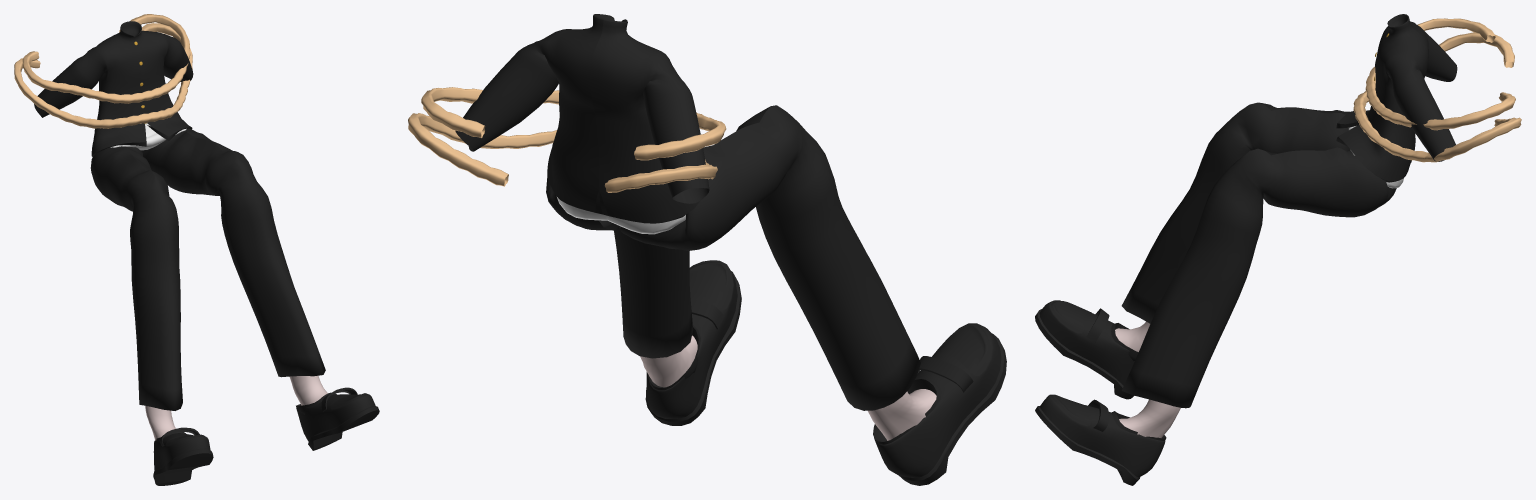
File: Mesh_VisualNovel_Player_Chair.fbx
The picture shows the model from 3 angles, left to right: view 1: azimuth 30°, elevation 25°; view 2: azimuth 150°, elevation 25°; view 3: azimuth 270°, elevation 25°; orthographic projection. The views are drawn at different scales.
Parts seen in each view (by area): view 1: Body.002, Body.001, Rope.shape.003, Rope.shape.002; view 2: Body.001, Body.002, Rope.shape.003, Rope.shape.002; view 3: Body.002, Body.001, Rope.shape.003, Rope.shape.002.
Part boxes in pixels (bbox=[...]): Body.002: bbox=[90, 128, 325, 410]; Body.001: bbox=[34, 21, 379, 485]; Rope.shape.003: bbox=[14, 23, 192, 128]; Rope.shape.002: bbox=[22, 14, 190, 103]; Body.001: bbox=[455, 14, 1006, 485]; Body.002: bbox=[546, 105, 920, 410]; Rope.shape.003: bbox=[408, 113, 717, 192]; Rope.shape.002: bbox=[421, 87, 726, 160]; Body.002: bbox=[1121, 102, 1396, 408]; Body.001: bbox=[1035, 14, 1457, 485]; Rope.shape.003: bbox=[1353, 32, 1521, 162]; Rope.shape.002: bbox=[1365, 18, 1515, 130].
Bounding box in the file's own units: 52.24 × 87.06 × 91.08.
